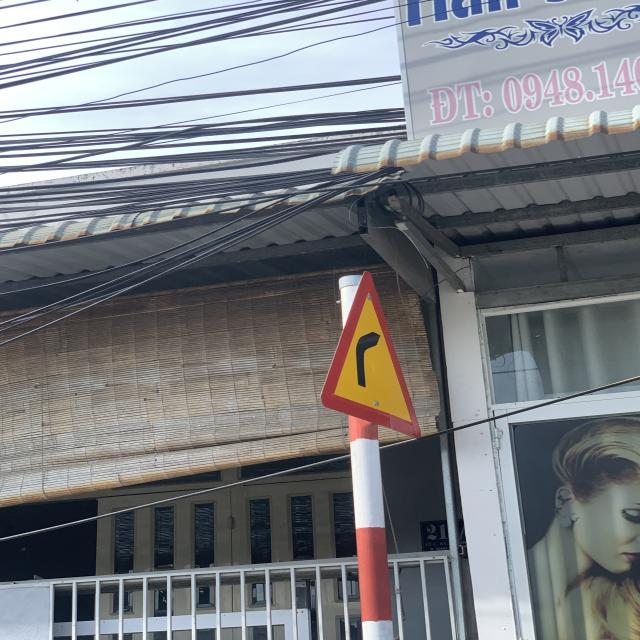Duong_Nguoi_Di_Bo_Cat_Ngang: (320, 270, 425, 439)
